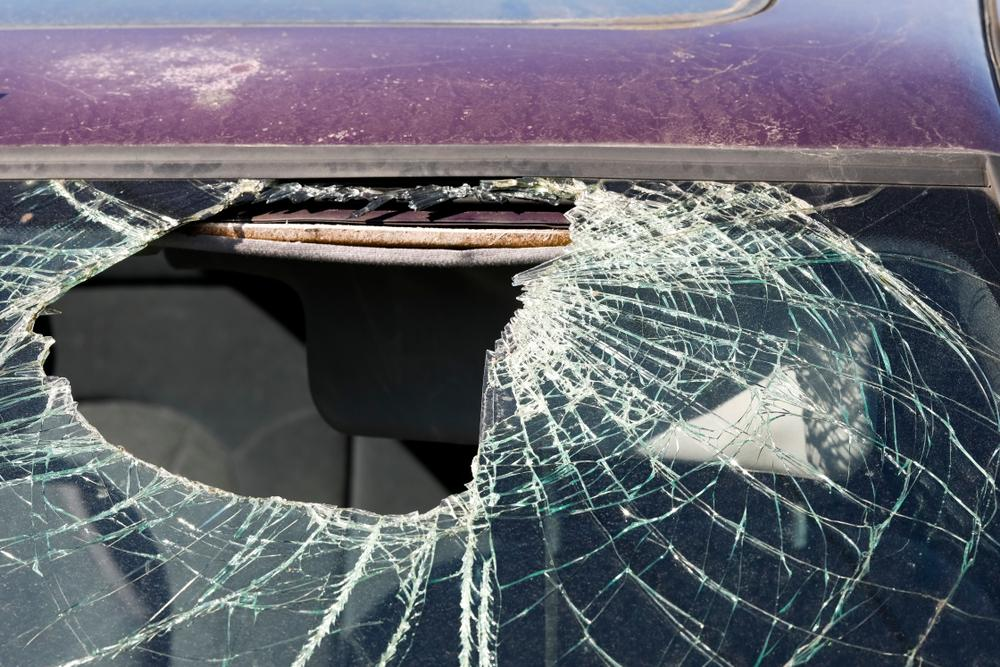glass shatter: (0, 174, 1000, 667)
